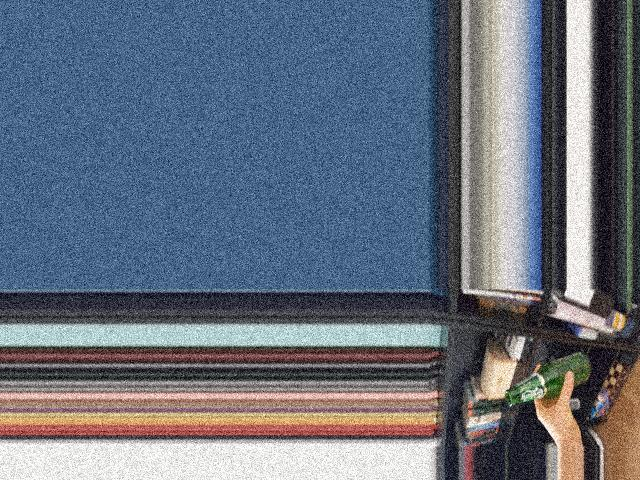beer: (505, 350, 591, 405)
